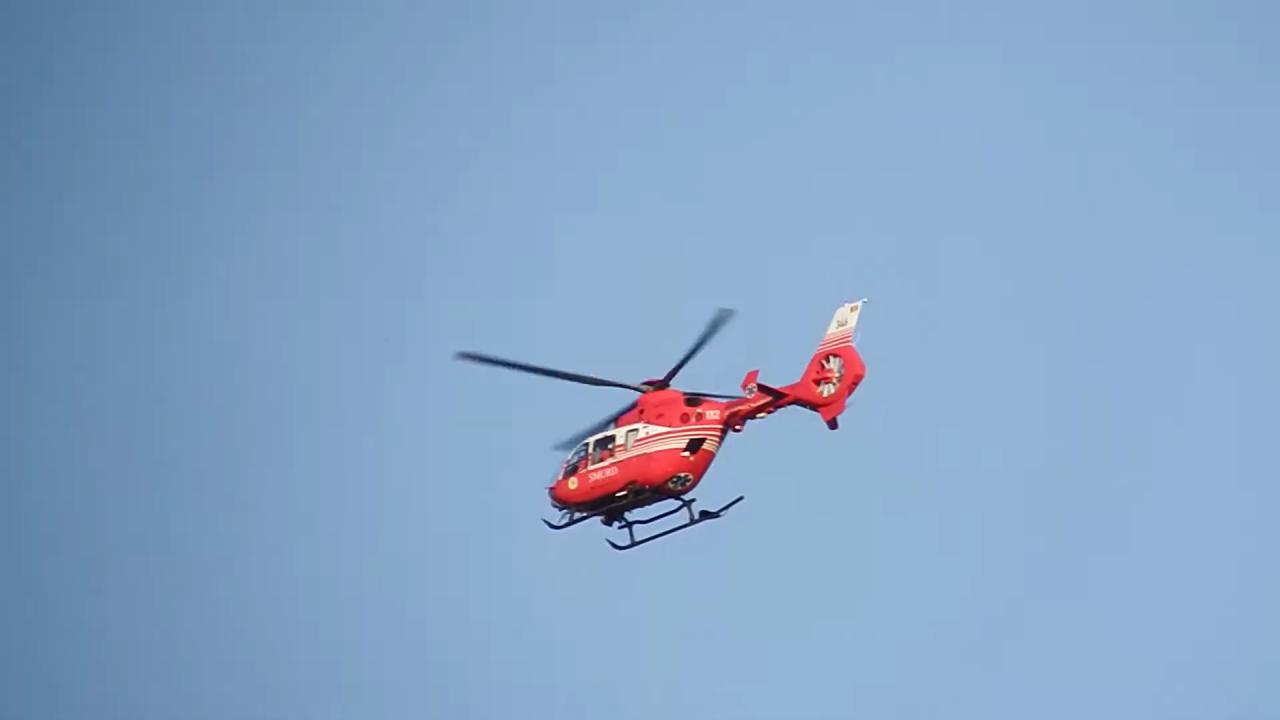Helicopter: (432, 272, 903, 576)
